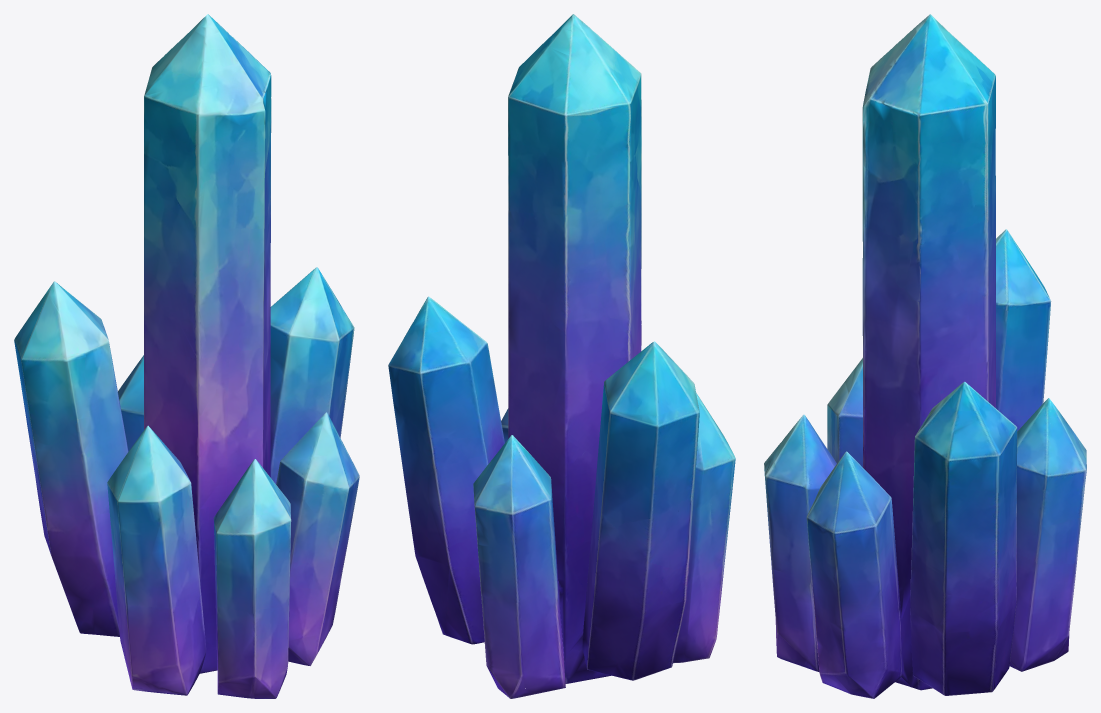
Rendered from 02-great-crystal.glb.
3 renders of one model, left to right at view 1: azimuth 30°, elevation 25°; view 2: azimuth 150°, elevation 25°; view 3: azimuth 270°, elevation 25°, orthographic. The views are drawn at different scales.
Parts seen in each view (by area): view 1: tripo_node_545b965a-0148-4a05-82f9-da6b4a2f3a6d; view 2: tripo_node_545b965a-0148-4a05-82f9-da6b4a2f3a6d; view 3: tripo_node_545b965a-0148-4a05-82f9-da6b4a2f3a6d.
Boxes of the visible parts, <box> form: tripo_node_545b965a-0148-4a05-82f9-da6b4a2f3a6d: <box>14,14,359,698</box>; tripo_node_545b965a-0148-4a05-82f9-da6b4a2f3a6d: <box>388,14,735,698</box>; tripo_node_545b965a-0148-4a05-82f9-da6b4a2f3a6d: <box>764,14,1086,698</box>.
Size of the model in its own units: 0.5062 by 0.9807 by 0.4429.
Materials: 1 (1 with a texture image).
